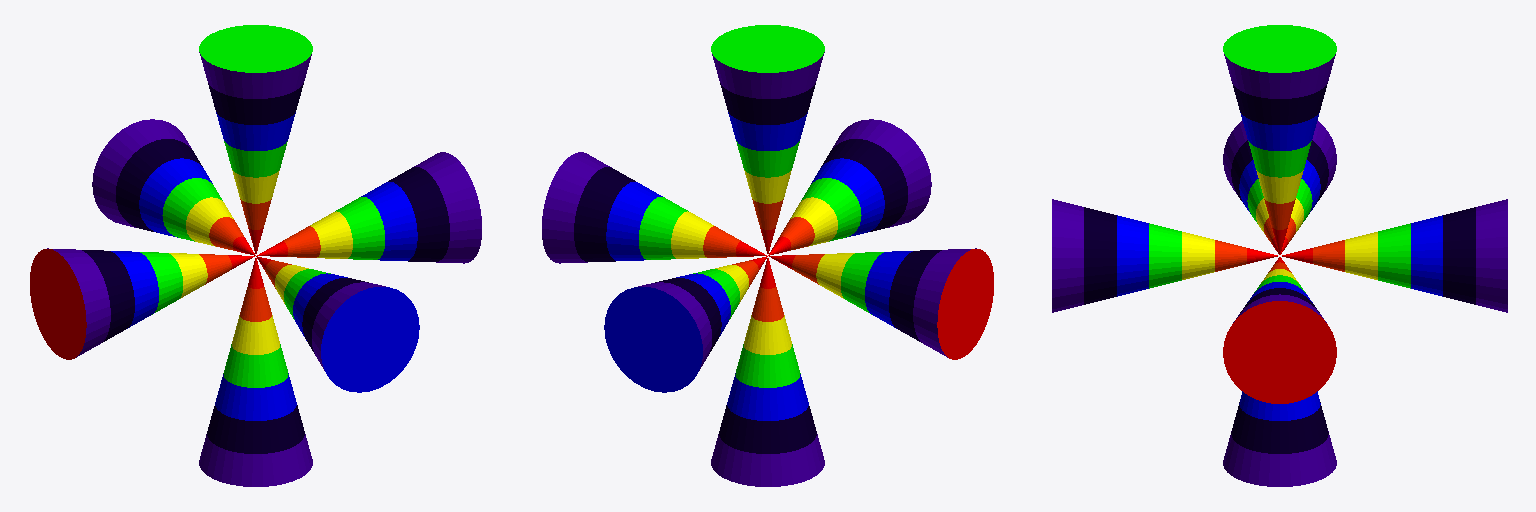
Rendered from cursor.obj.
3 renders of one model, left to right at view 1: azimuth 30°, elevation 25°; view 2: azimuth 150°, elevation 25°; view 3: azimuth 270°, elevation 25°, orthographic.
Visible parts, largest first — view 1: Cone.004, Cone.005, Cone.002, Cone.003, Cone, Cone.001; view 2: Cone.004, Cone.005, Cone.002, Cone.003, Cone, Cone.001; view 3: Cone.005, Cone, Cone.001, Cone.002, Cone.004, Cone.003.
Boxes of the visible parts, x1=… form: Cone.004: x1=199, y1=258, x2=312, y2=486; Cone.005: x1=199, y1=25, x2=312, y2=253; Cone.002: x1=257, y1=152, x2=481, y2=263; Cone.003: x1=30, y1=248, x2=254, y2=359; Cone: x1=92, y1=119, x2=255, y2=255; Cone.001: x1=256, y1=256, x2=419, y2=392; Cone.004: x1=711, y1=258, x2=824, y2=486; Cone.005: x1=711, y1=25, x2=824, y2=253; Cone.002: x1=542, y1=152, x2=766, y2=263; Cone.003: x1=769, y1=248, x2=993, y2=359; Cone: x1=604, y1=256, x2=767, y2=392; Cone.001: x1=768, y1=119, x2=931, y2=255; Cone.005: x1=1223, y1=25, x2=1336, y2=253; Cone: x1=1282, y1=199, x2=1507, y2=312; Cone.001: x1=1052, y1=199, x2=1277, y2=312; Cone.002: x1=1223, y1=257, x2=1336, y2=403; Cone.004: x1=1223, y1=391, x2=1336, y2=486; Cone.003: x1=1223, y1=121, x2=1336, y2=254.
Size of the model in its own units: 1 by 1 by 1.